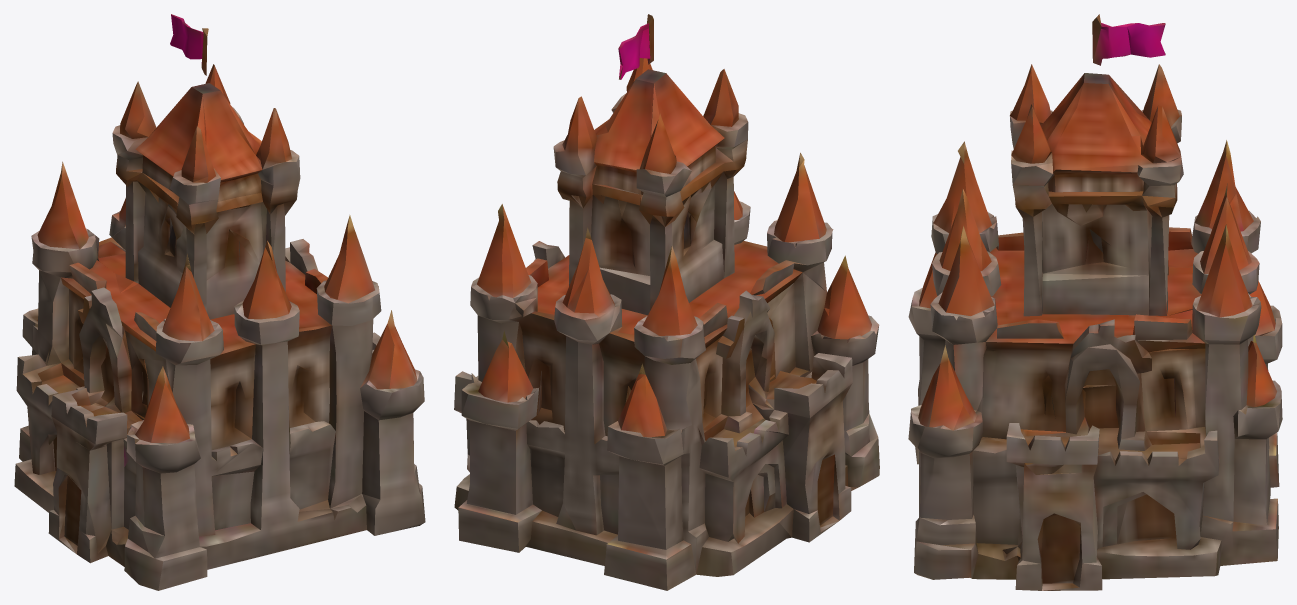
File: castle3.lod2.glb
The picture shows the model from 3 angles, left to right: view 1: azimuth 30°, elevation 25°; view 2: azimuth 150°, elevation 25°; view 3: azimuth 270°, elevation 25°; orthographic projection. The views are drawn at different scales.
Parts seen in each view (by area): view 1: castle3.lod2_uv; view 2: castle3.lod2_uv; view 3: castle3.lod2_uv.
Part boxes in pixels (box(x1,y1,x2,y2)): castle3.lod2_uv: box(14, 14, 425, 590); castle3.lod2_uv: box(454, 14, 879, 590); castle3.lod2_uv: box(908, 14, 1282, 590).
Size of the model in its own units: 1.3 by 1.89 by 1.29.
1 material, 1 textured.
